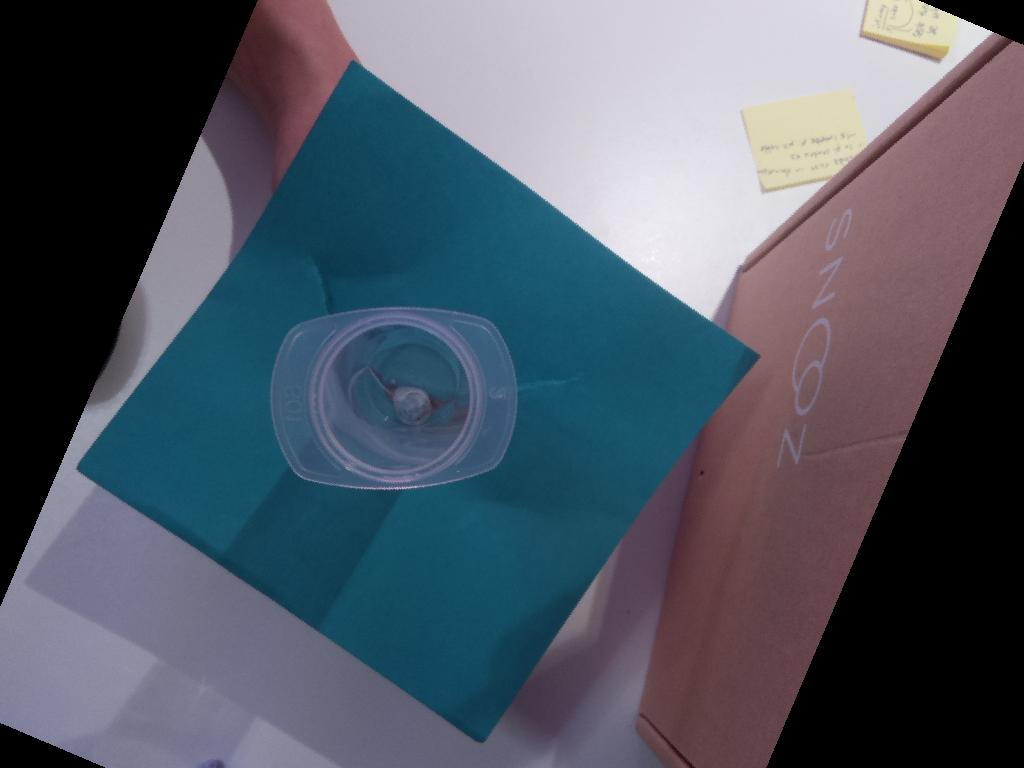clean: (269, 304, 529, 490)
